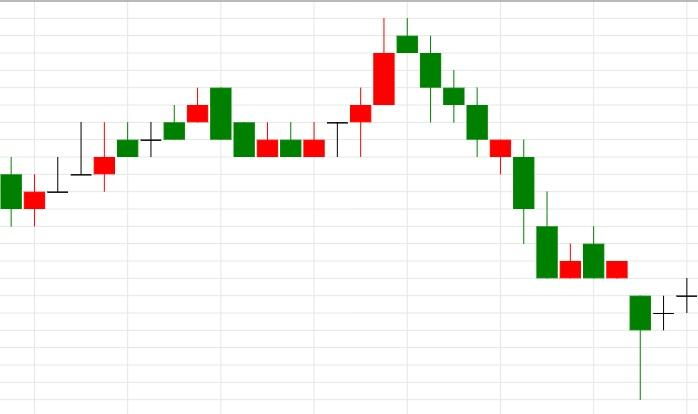bearish_engulfing_fall: (0, 87, 232, 228)
hammer_rise: (396, 17, 651, 400)
three_black_crows_fall: (303, 17, 465, 157)
